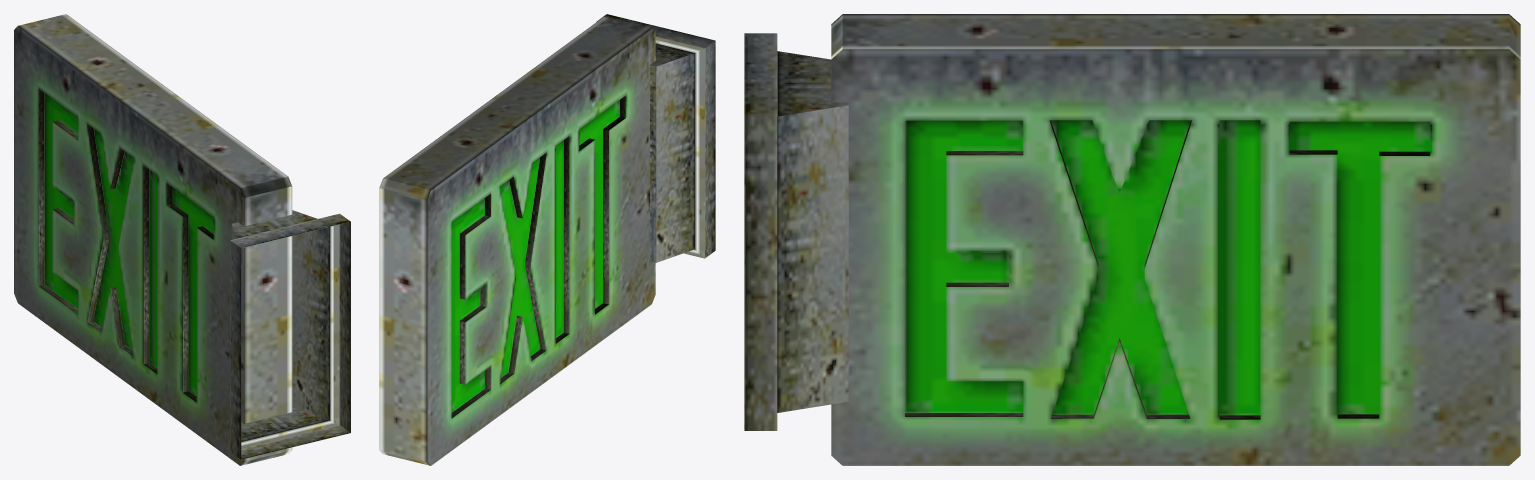
File: exit_sign.fbx
3 views of the same model, side by side, from view 1: azimuth 30°, elevation 25°; view 2: azimuth 150°, elevation 25°; view 3: azimuth 270°, elevation 25° (orthographic). The views are drawn at different scales.
Parts seen in each view (by area): view 1: exit_sign.001; view 2: exit_sign.001; view 3: exit_sign.001.
Boxes of the visible parts, left/top/right/bottom form: exit_sign.001: left=14, top=14, right=350, bottom=465; exit_sign.001: left=379, top=14, right=715, bottom=465; exit_sign.001: left=744, top=14, right=1520, bottom=465.
Bounding box in the file's own units: 0.1349 × 0.3264 × 0.5513.
1 material, 1 textured.
